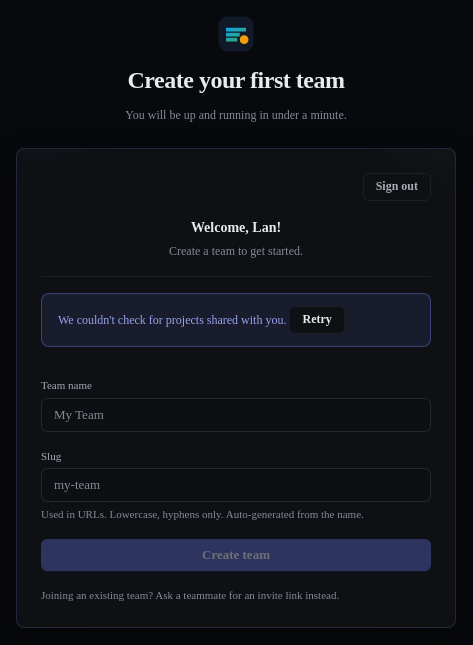
/onboarding shared-lookup hint › retry succeeds with projects: hint goes away, Skip for now appears
expect the field labelled "Team name" is shown: met, box [41,398,431,432]
Click the button "Retry": (317,320) [290,306,345,334]
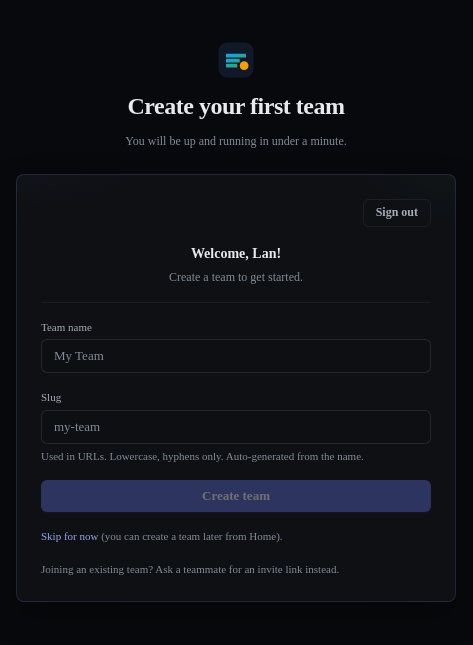
expect the link "Skip for now" is shown: met, box [41,530,98,542]
expect the text "couldn't check for projects shared with you" is gone: met
expect the button "Retry" is gone: met
